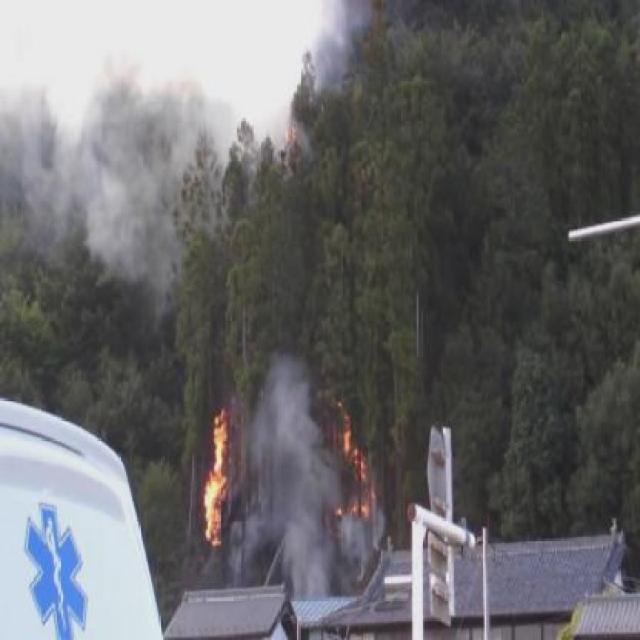Fire: (199, 409, 232, 548), (339, 408, 370, 479), (330, 500, 372, 518)
